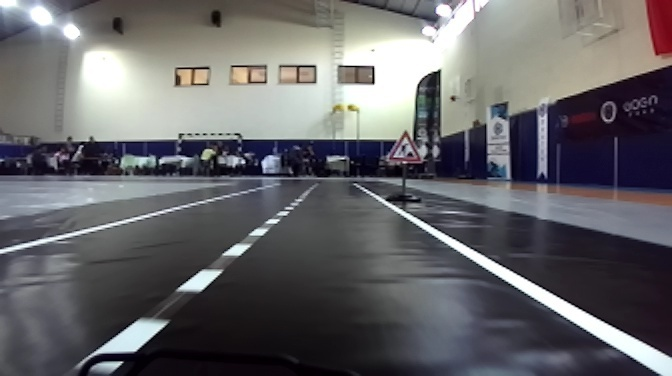yol_yapimi: (387, 129, 423, 166)
